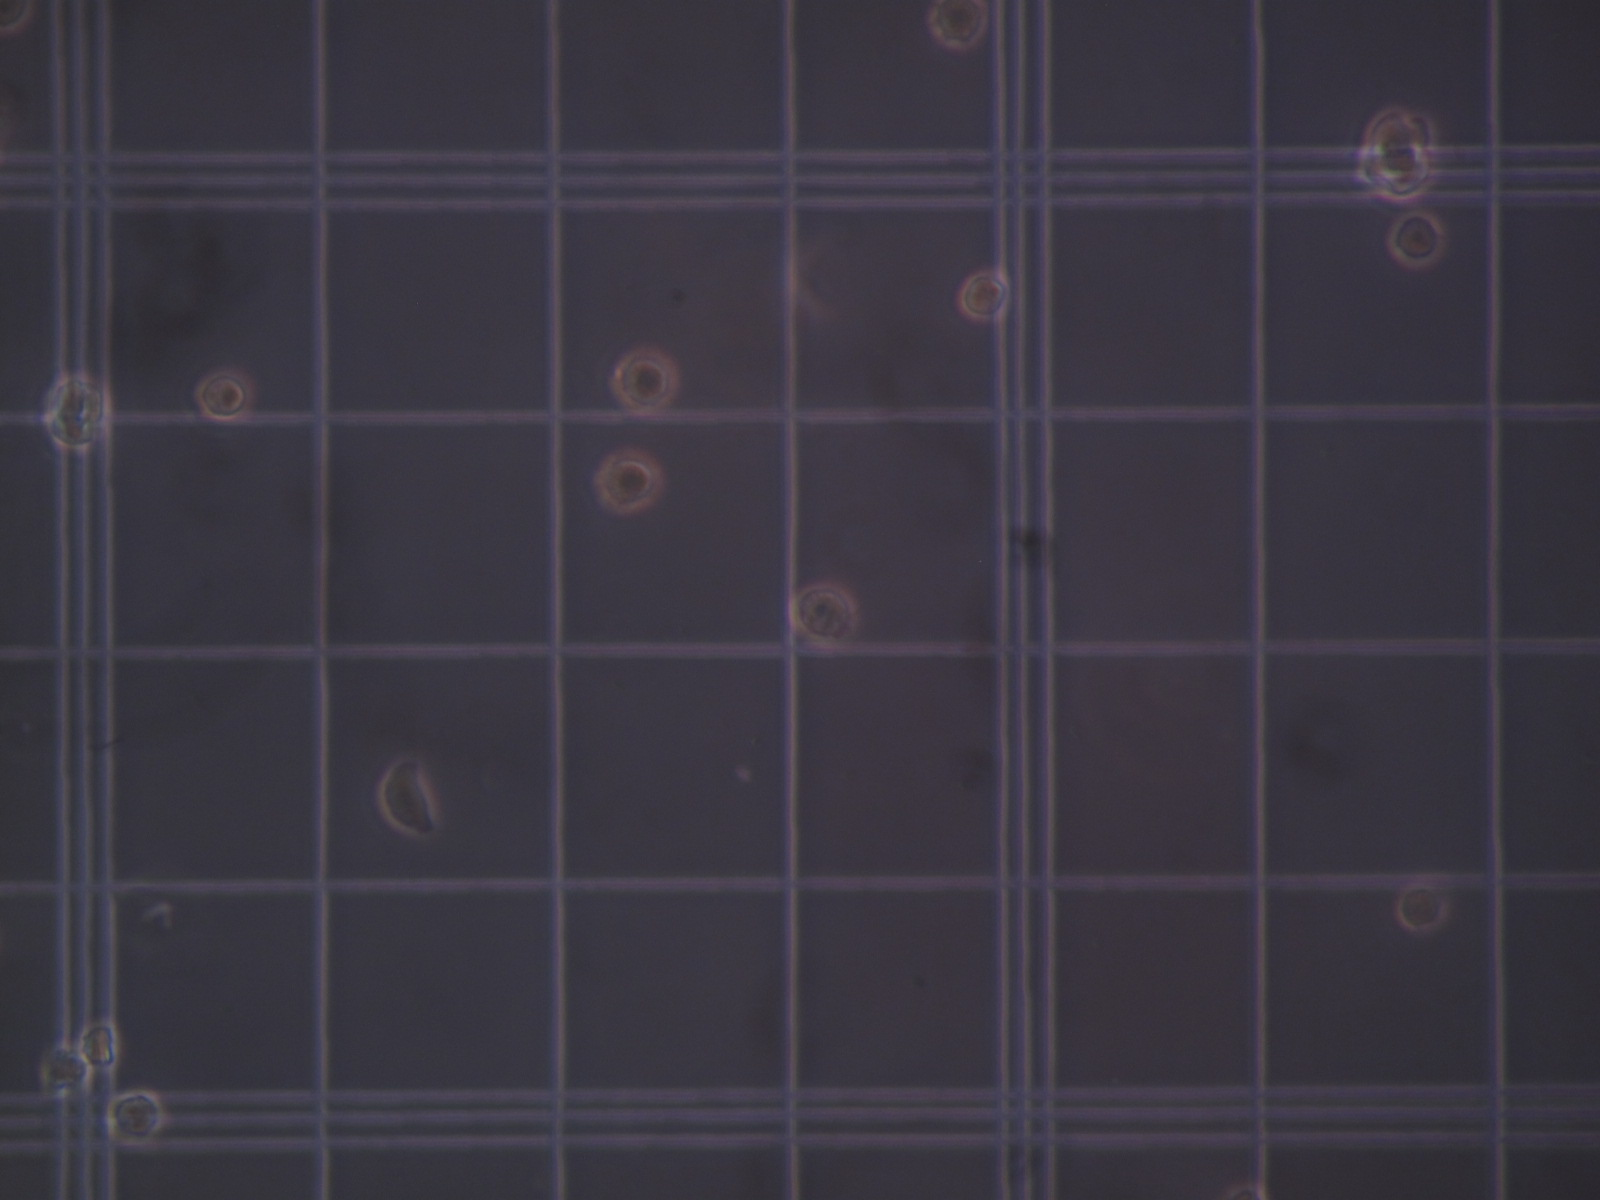hemo: (1358, 108, 1434, 203), (375, 758, 440, 836), (45, 373, 108, 450), (791, 584, 860, 649), (610, 348, 679, 413), (593, 451, 664, 514), (1386, 209, 1444, 268), (195, 367, 253, 422), (927, 1, 989, 50), (110, 1088, 163, 1143), (957, 271, 1012, 321), (1393, 880, 1448, 930), (42, 1047, 94, 1095), (81, 1024, 118, 1071)
